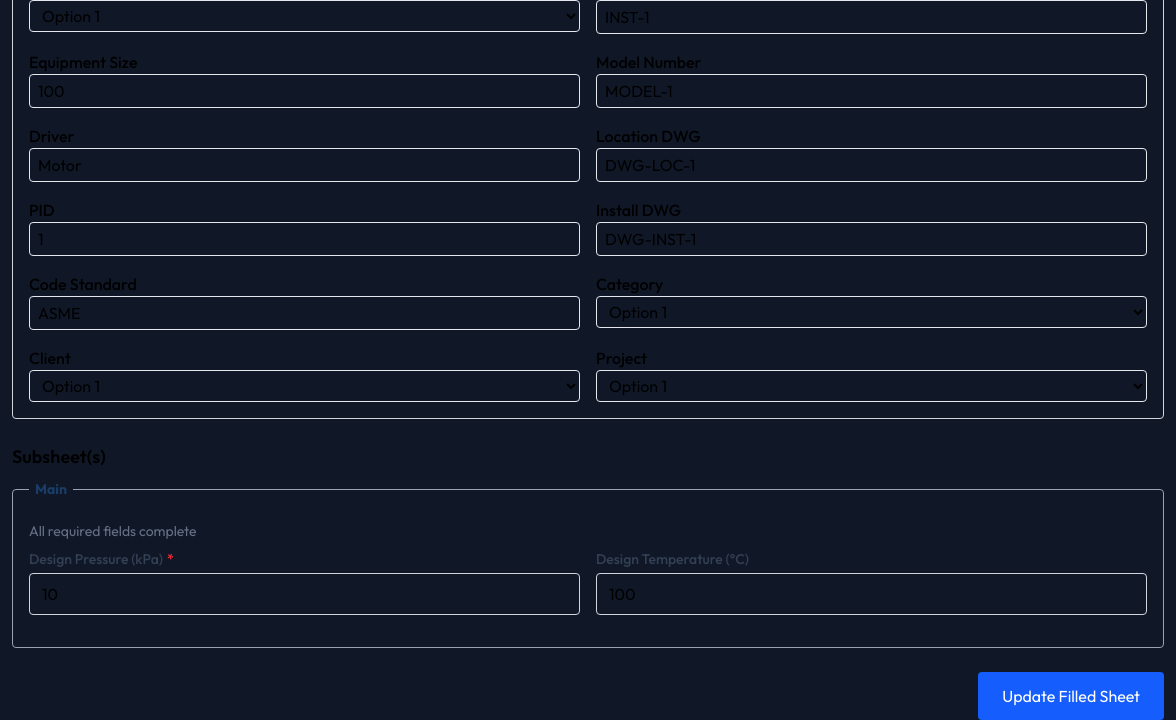
it: FilledSheetEditorForm › shows red banner and mentions sheetName when 400 returns headerFieldErrors
This screenshot has width=1176, height=720.
(page scrolled)
Click the button "Update Filled Sheet". click: (1071, 696)
box: [978,672,1164,719]
(page scrolled)
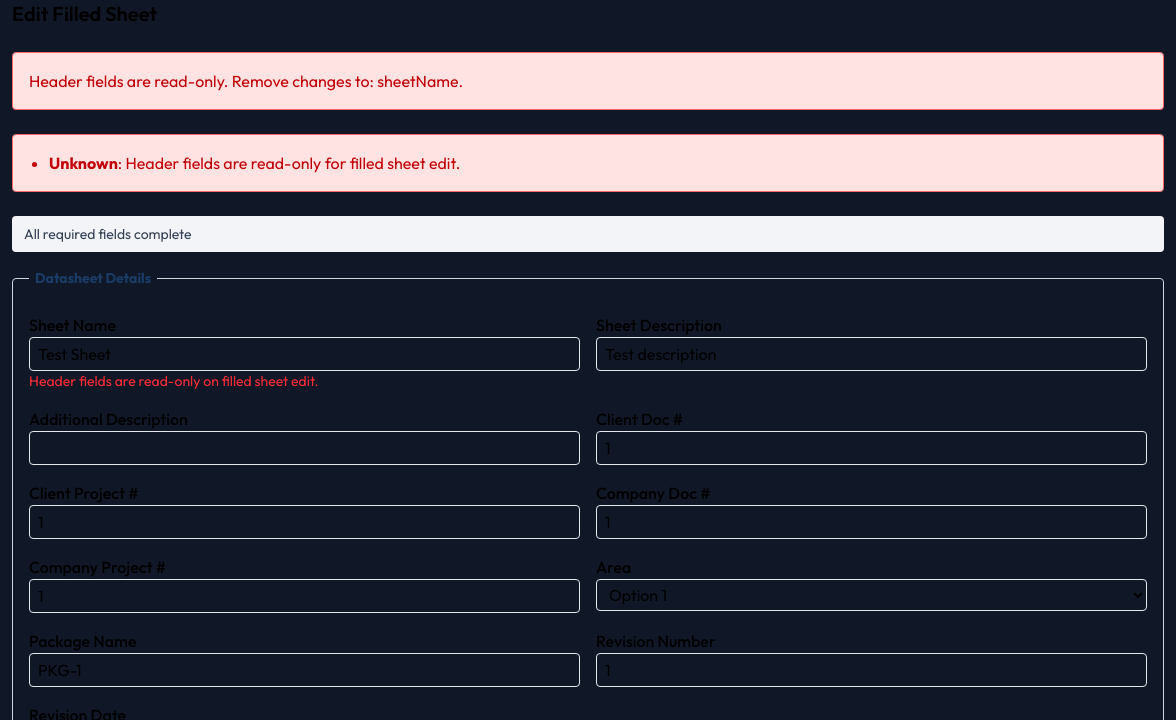
expect the text "Header fields are read-only. Remove changes to: sheetName." is shown: met, box [12,52,1164,110]
